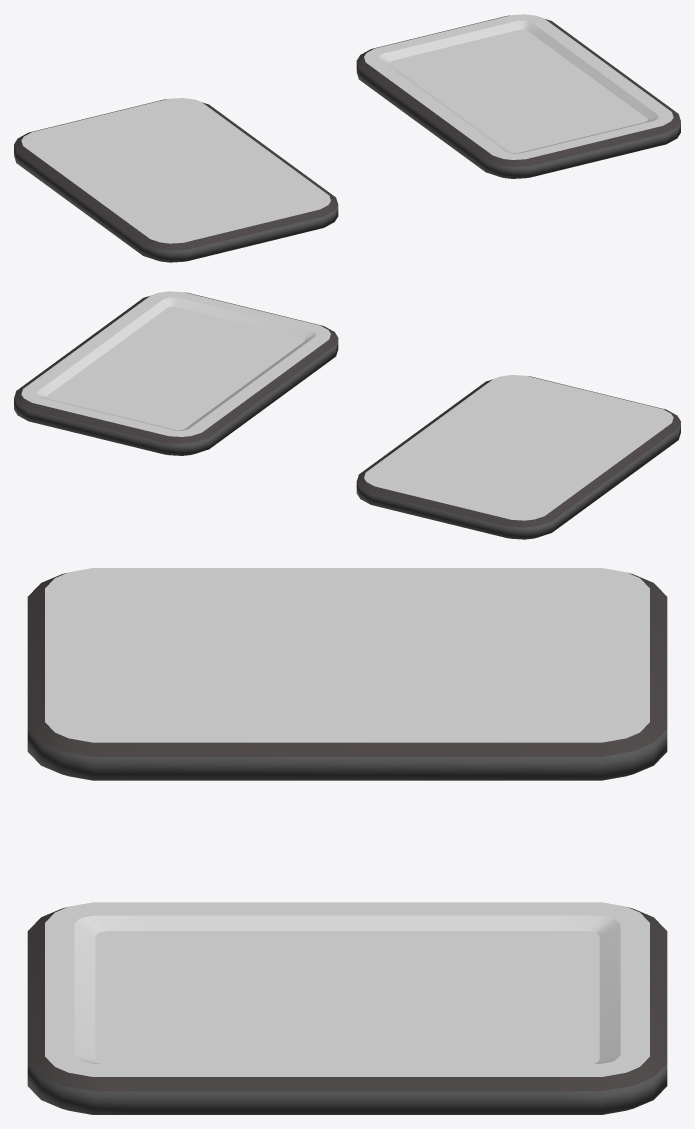
Rendered from GlassSheet.fbx.
The picture shows the model from 3 angles, top to bottom: view 1: azimuth 30°, elevation 25°; view 2: azimuth 150°, elevation 25°; view 3: azimuth 270°, elevation 25°; orthographic projection. The views are drawn at different scales.
Parts seen in each view (by area): view 1: GlassSheet, GlassSheetReinforced; view 2: GlassSheet, GlassSheetReinforced; view 3: GlassSheet, GlassSheetReinforced.
Boxes of the visible parts, bbox=[...] form: GlassSheet: bbox=[14, 98, 338, 262]; GlassSheetReinforced: bbox=[356, 14, 680, 178]; GlassSheet: bbox=[356, 375, 680, 539]; GlassSheetReinforced: bbox=[14, 291, 338, 455]; GlassSheet: bbox=[27, 568, 667, 780]; GlassSheetReinforced: bbox=[27, 902, 667, 1114].
Bounding box in the file's own units: 1.56 × 0.0529 × 0.808.
